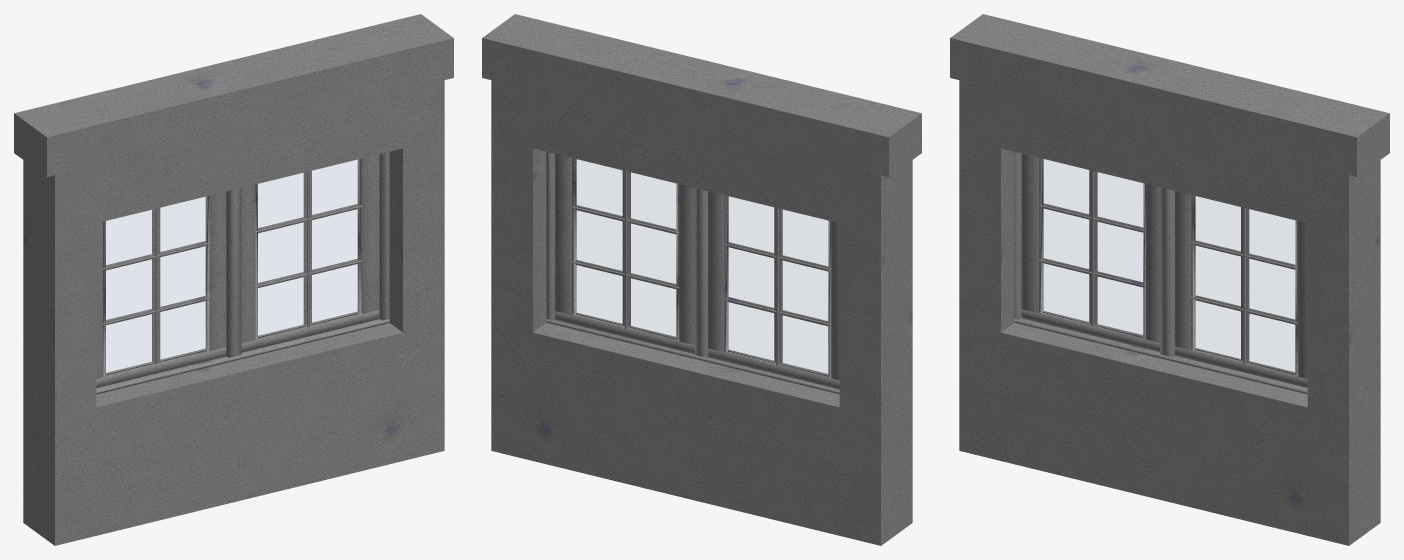
The model's file is AshSquareWIndowedWall.001.glb.
3 views of the same model, side by side, from view 1: azimuth 30°, elevation 25°; view 2: azimuth 150°, elevation 25°; view 3: azimuth 330°, elevation 25° (orthographic).
Parts seen in each view (by area): view 1: AshSquareWIndowedWall.001; view 2: AshSquareWIndowedWall.001; view 3: AshSquareWIndowedWall.001.
Boxes of the visible parts, <box> form: AshSquareWIndowedWall.001: <box>14,14,453,545</box>; AshSquareWIndowedWall.001: <box>482,14,921,545</box>; AshSquareWIndowedWall.001: <box>950,14,1389,545</box>.
Size of what is drawn, in the model's own units: 3.03 by 2.93 by 0.4241.
Materials: 2 (2 with a texture image).
